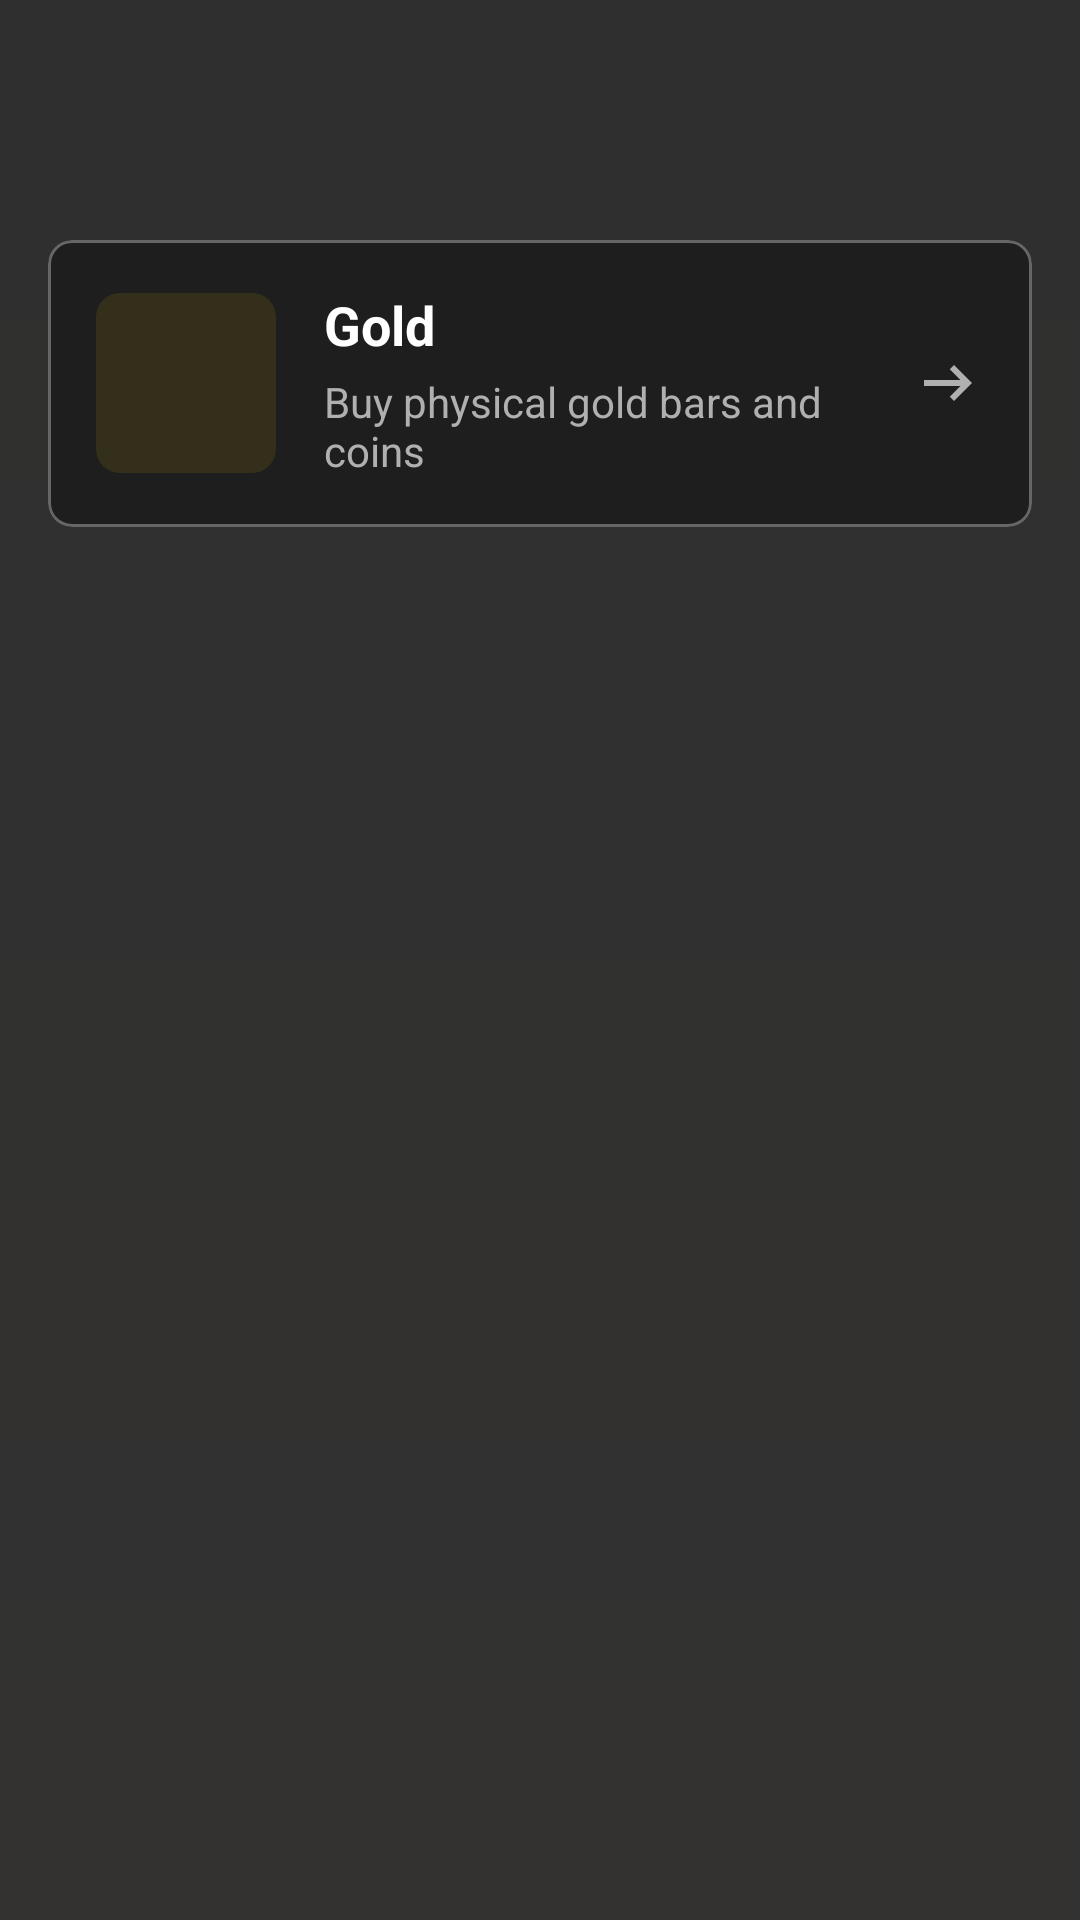

Named icons in this screenshot (1080*1920) and their bounding boxes, (x1, y1, x2, y2):
arrow right: (924, 365, 972, 401)
